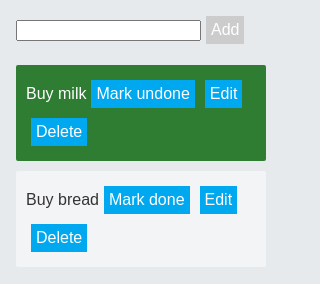
Test: TodoApp › it should delete a todo item
This screenshot has width=320, height=284.
Click the button "Delete" below "Buy milk".
click(59, 132)  # box [31, 118, 87, 146]
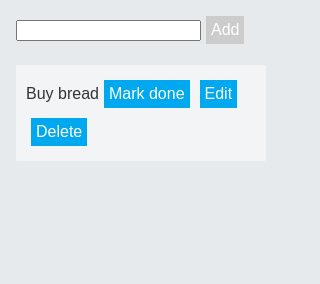
Expected: the text "Buy milk" is gone
